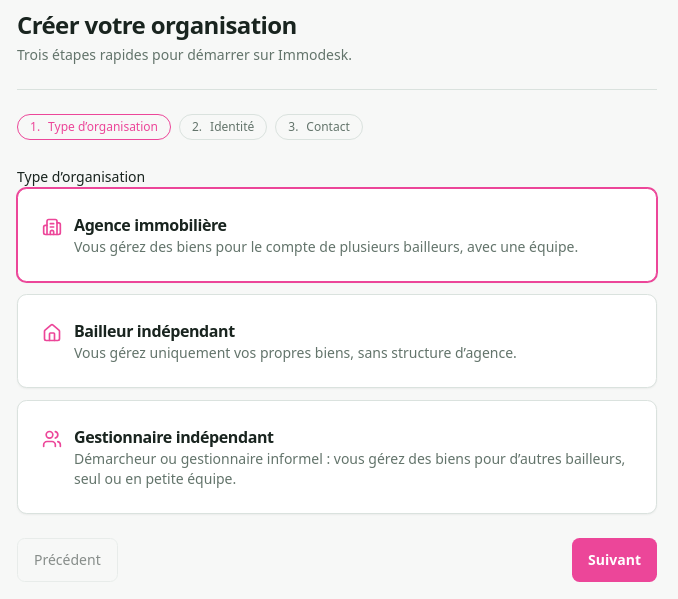
OnboardingOrganisationPage — libellé du nom › demande « Nom et prénom » pour une agence (comportement par défaut), avec le nom commercial
Step 1. Click the button "Suivant" → (615, 560), box [572, 538, 657, 582]
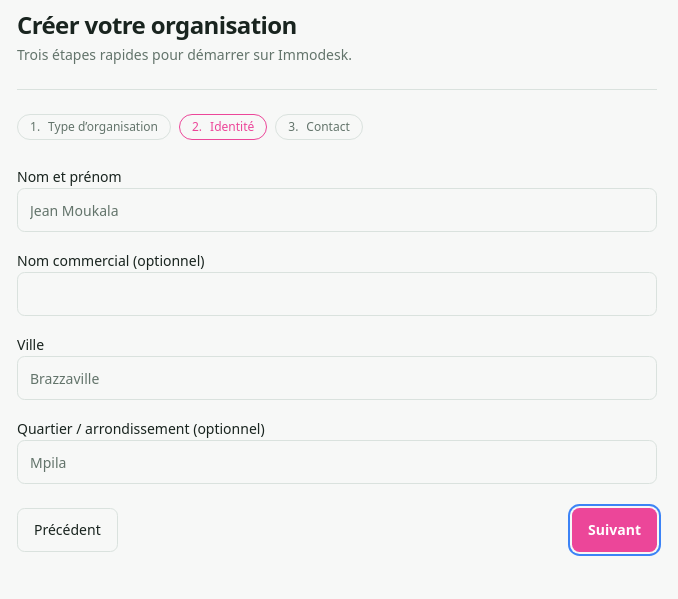
Expected: the field with placeholder "Jean Moukala" is shown, [17, 188, 657, 232]
Expected: the field labelled "Nom commercial (optionnel)" is shown, [17, 272, 657, 316]
